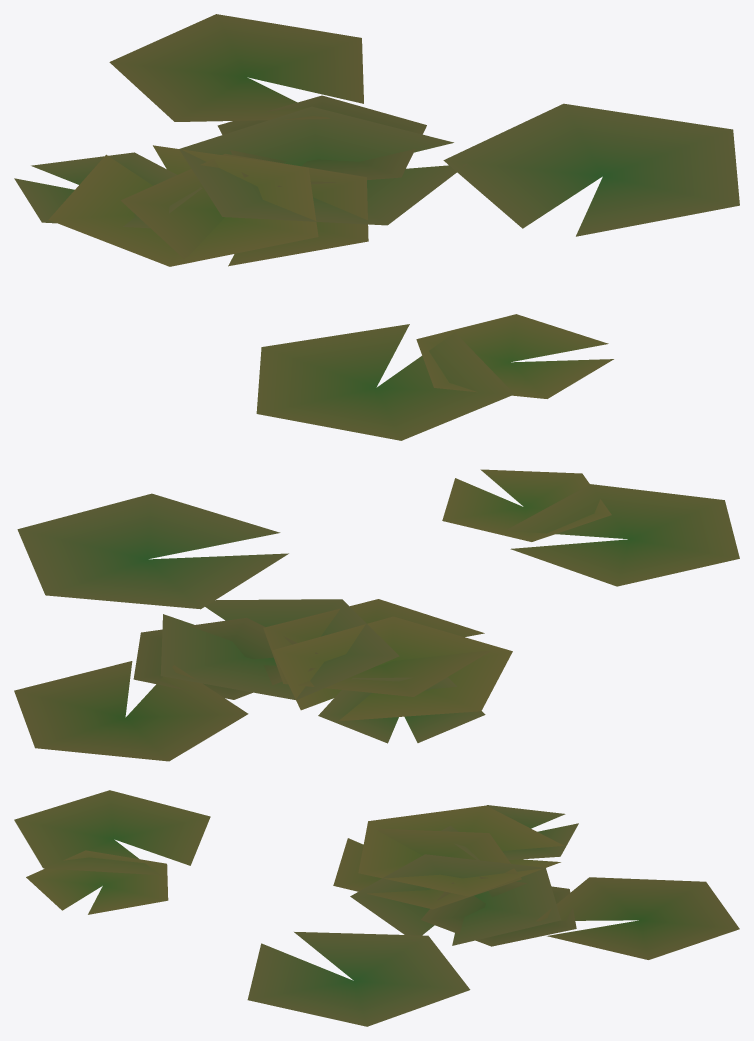
The model's file is lily-pads-b.lod2.glb.
3 views of the same model, one above another, from view 1: azimuth 30°, elevation 25°; view 2: azimuth 150°, elevation 25°; view 3: azimuth 270°, elevation 25° (orthographic). The views are drawn at different scales.
Parts seen in each view (by area): view 1: lily-pads-b.lod2; view 2: lily-pads-b.lod2; view 3: lily-pads-b.lod2.
Part boxes in pixels (bbox=[...]): lily-pads-b.lod2: bbox=[14, 14, 739, 440]; lily-pads-b.lod2: bbox=[14, 469, 739, 761]; lily-pads-b.lod2: bbox=[14, 790, 739, 1026].
Bounding box in the file's own units: 1.02 × 0.00984 × 1.31.
